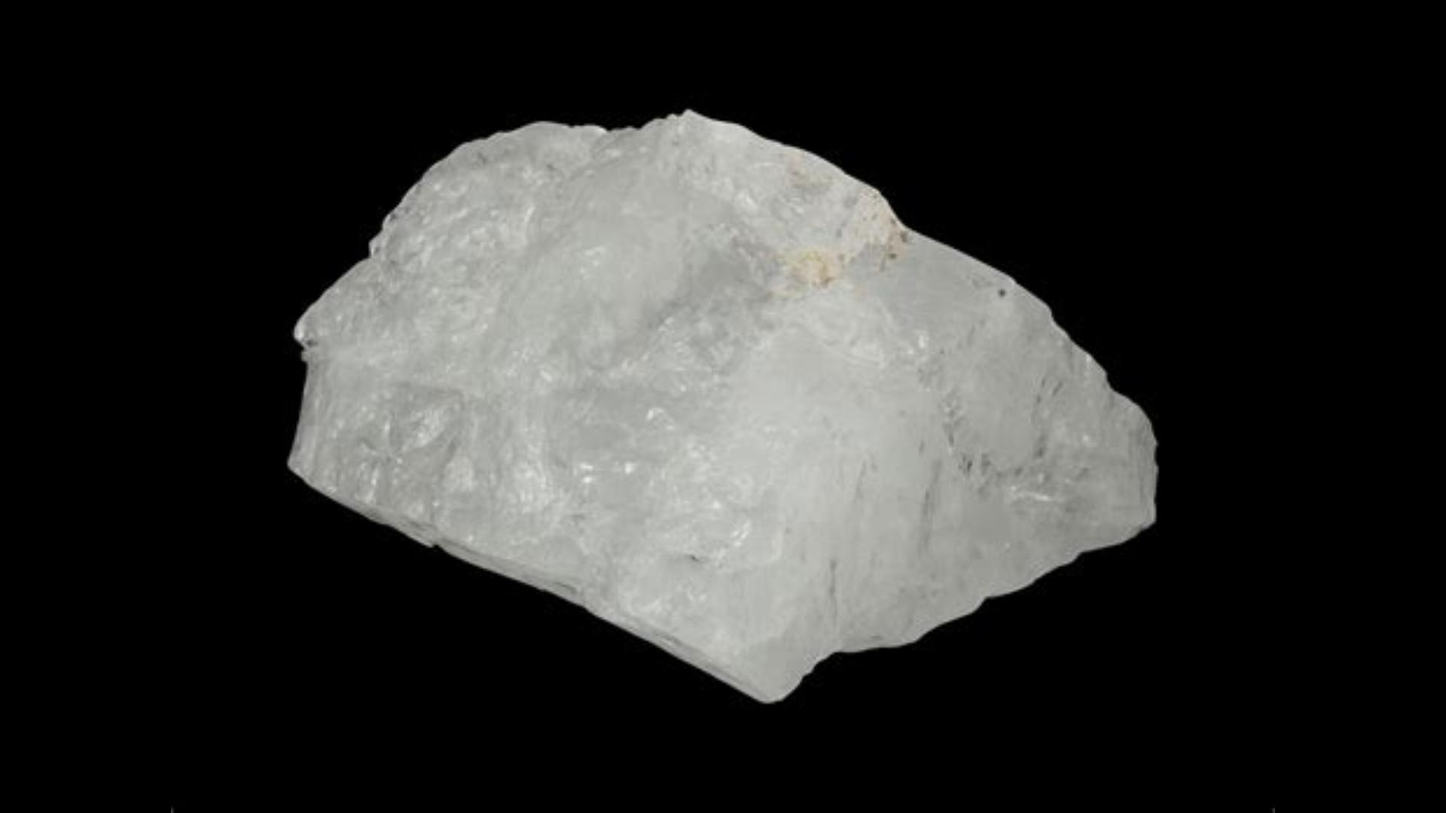rock: (290, 112, 1152, 699)
